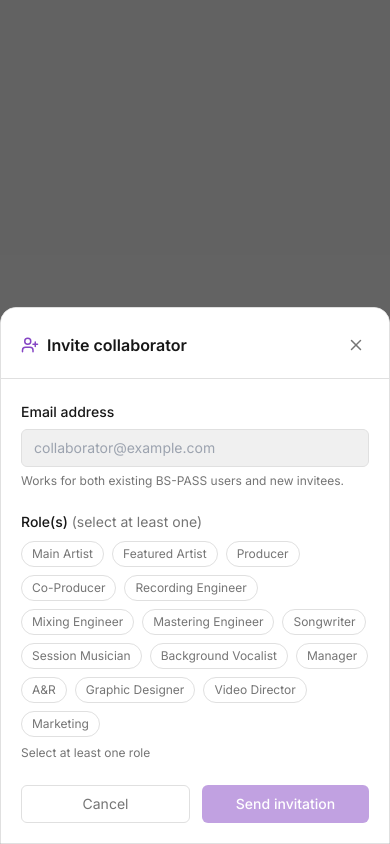
it: InviteModal › Send invitation button is enabled when email and role are provided
Type "bob@example.com" into the field with placeholder "collaborator@example.com". click: (195, 448)
box: top-left (21, 429), bottom-right (369, 467)
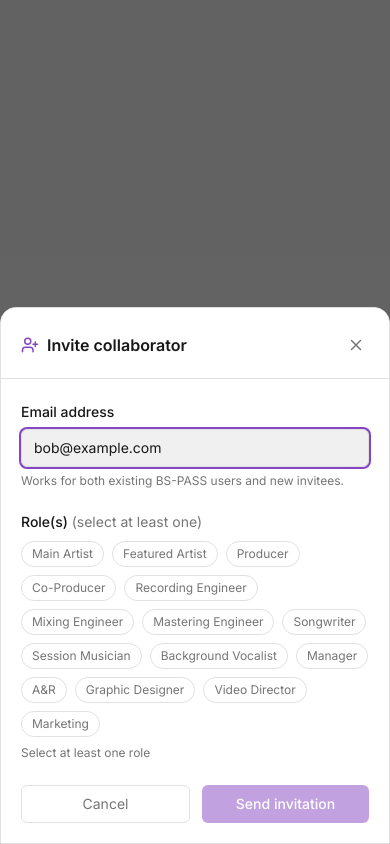
Click the button "Producer". click: (263, 554)
box: top-left (226, 541), bottom-right (300, 567)
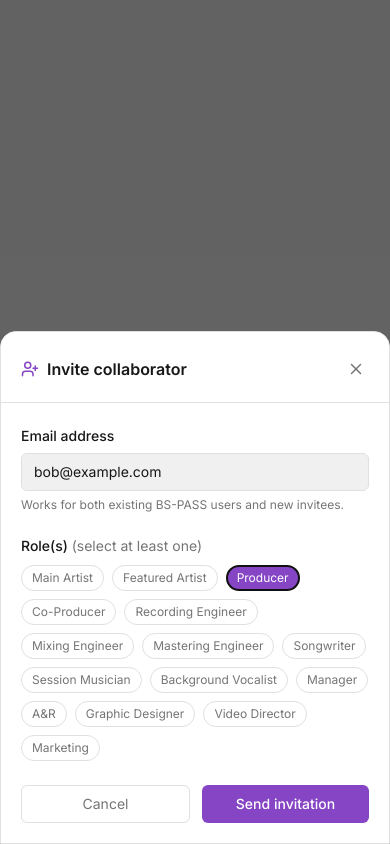
Now the button "Send invitation" is enabled, box top-left (202, 785), bottom-right (369, 823)
